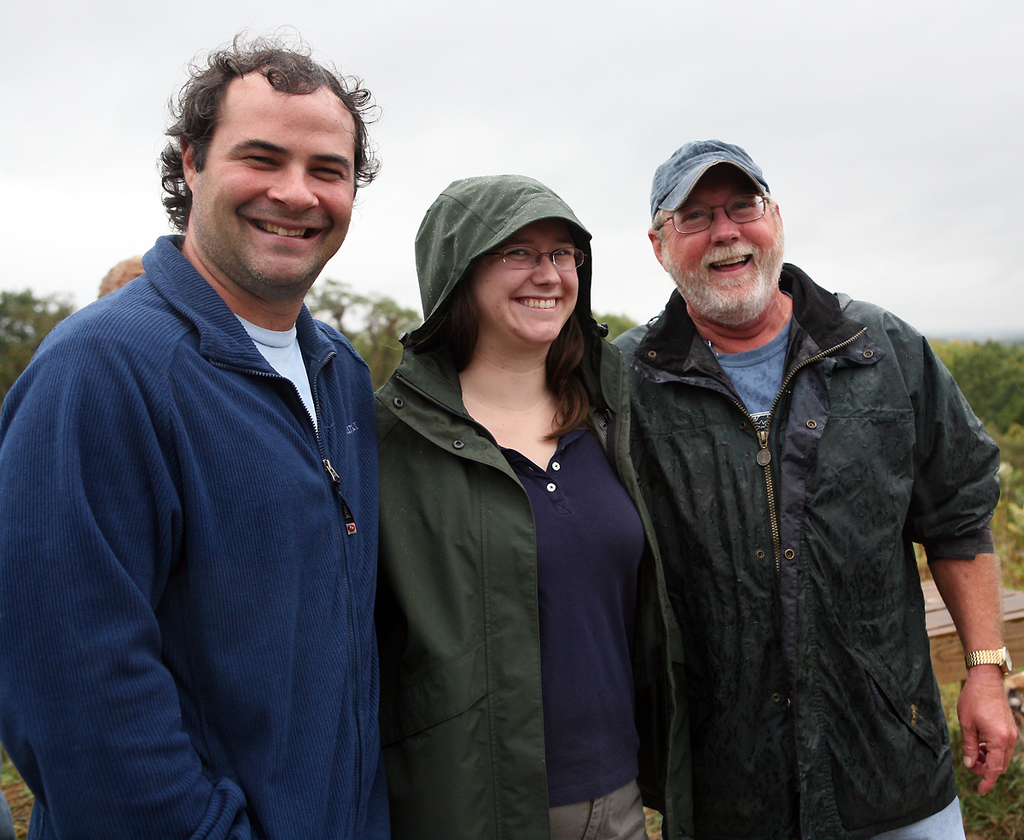Tree: (305, 265, 426, 389), (931, 333, 1023, 430), (0, 287, 76, 393)
